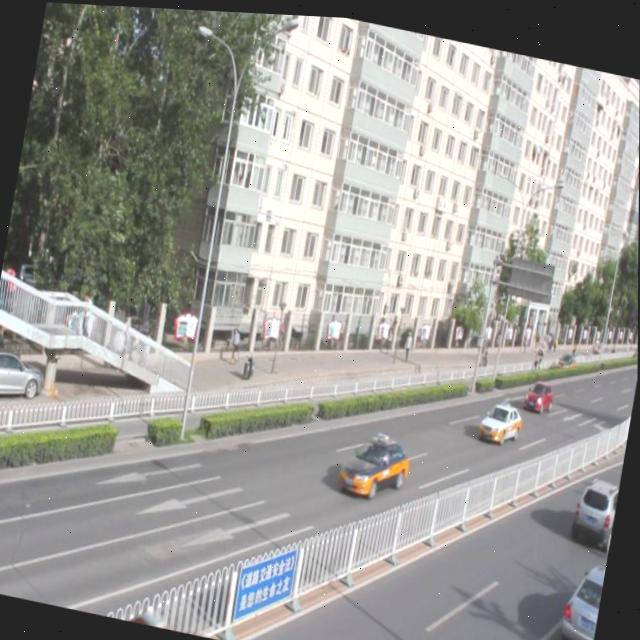car: (336, 428, 413, 500), (558, 549, 607, 640), (570, 467, 621, 540), (475, 391, 523, 444), (523, 371, 555, 407)
